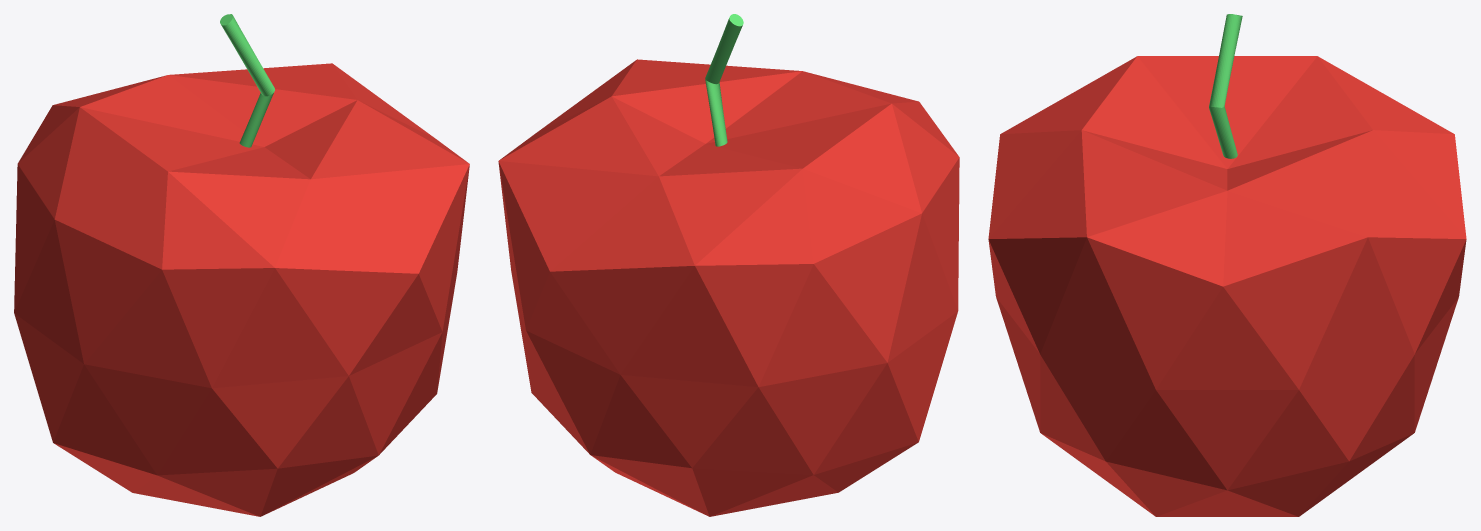
File: apple.fbx
The picture shows the model from 3 angles, left to right: view 1: azimuth 30°, elevation 25°; view 2: azimuth 150°, elevation 25°; view 3: azimuth 270°, elevation 25°; orthographic projection. The views are drawn at different scales.
Parts seen in each view (by area): view 1: Icosphere.001, Cylinder; view 2: Icosphere.001, Cylinder; view 3: Icosphere.001, Cylinder.
Part boxes in pixels (x1,y1,x2,y2): Icosphere.001: (14,63,469,516); Cylinder: (220,14,274,147); Icosphere.001: (498,59,959,516); Cylinder: (705,14,743,146); Icosphere.001: (988,56,1466,516); Cylinder: (1209,14,1242,158).
Bounding box in the file's own units: 474 × 506 × 451.
